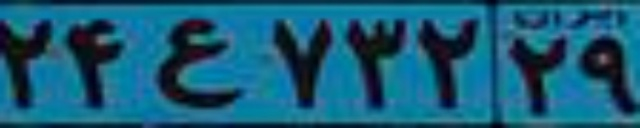2: (418, 16, 479, 110), (0, 17, 58, 108), (504, 34, 568, 116)
3: (344, 16, 414, 110)
4: (67, 16, 125, 107)
7: (269, 16, 334, 108)
9: (573, 34, 639, 115)
ain: (155, 17, 244, 108)
